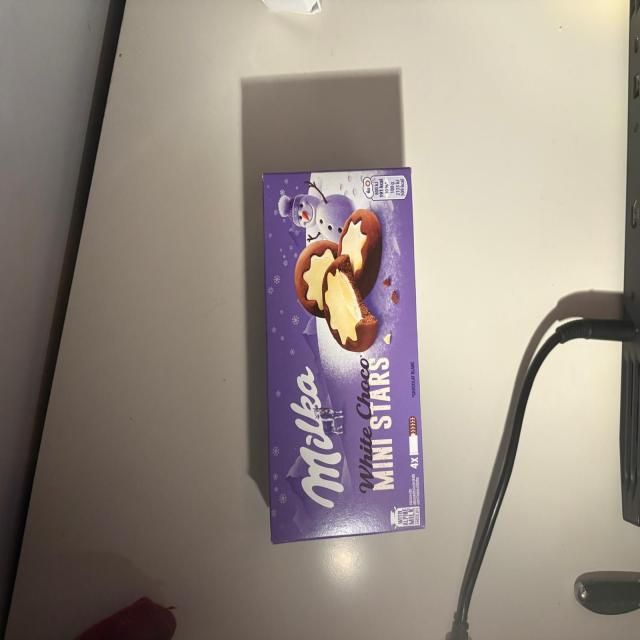good_package: (262, 169, 427, 545)
